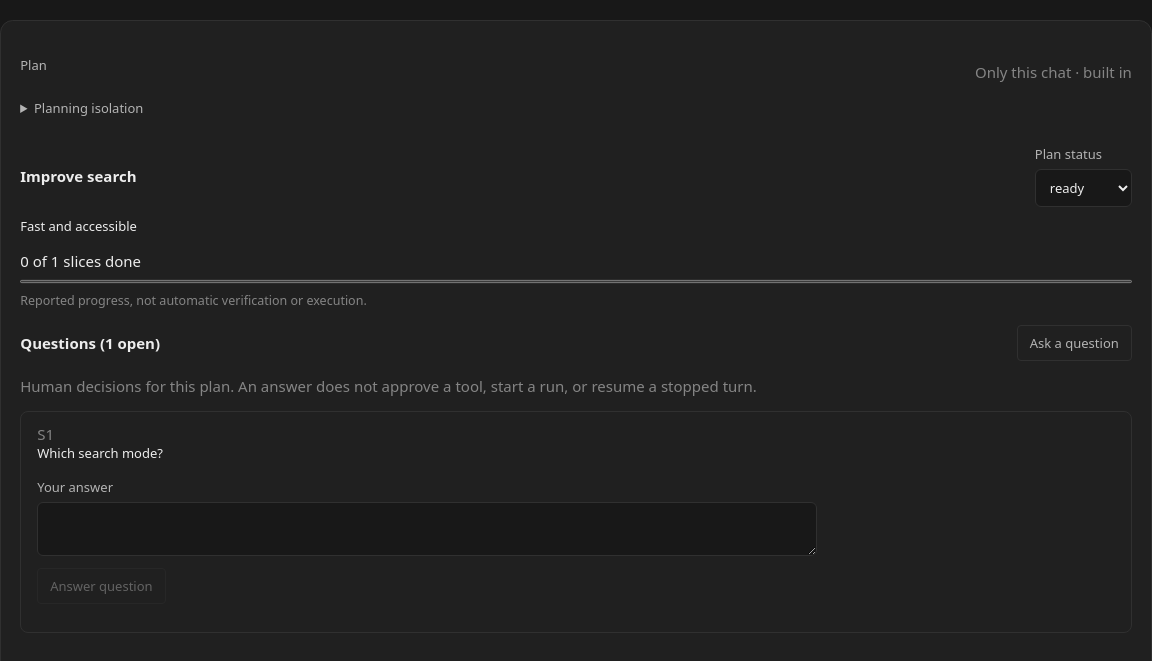
Test: chat-owned planning › answers the displayed chat's question, retaining the draft on conflict
The width and height of the screenshot is (1152, 661).
Type "Use prefix matching" into the text box labelled "Your answer" at (427, 529), box x1=37 y1=502 x2=817 y2=556
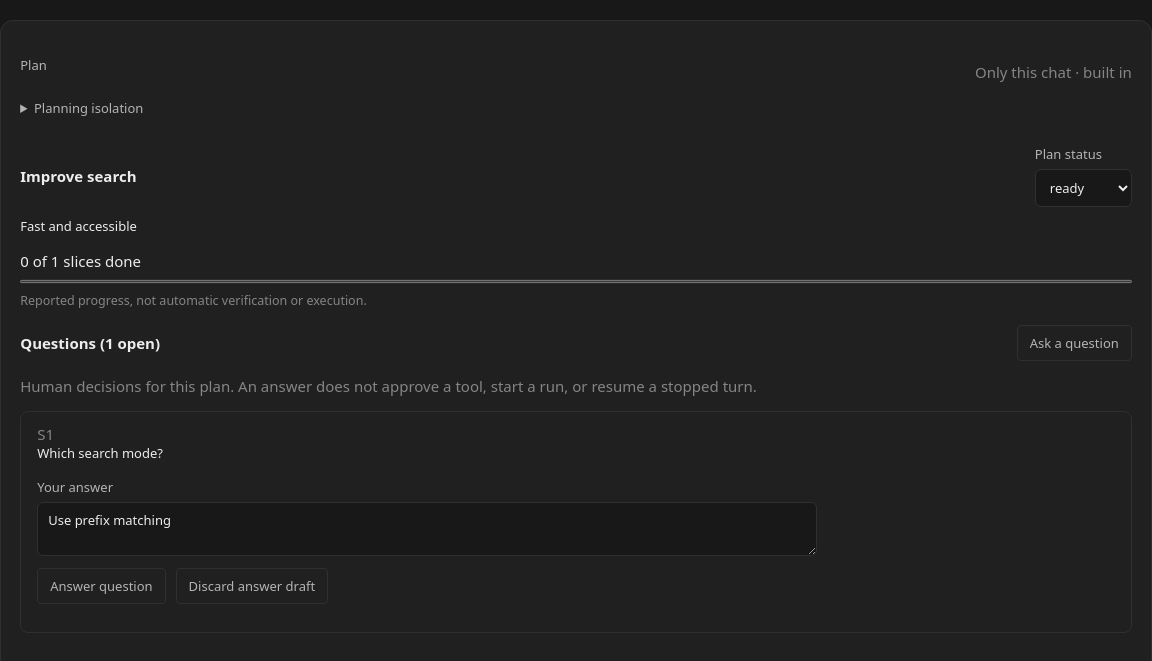
Click the button "Answer question" at (101, 586), box x1=37 y1=568 x2=166 y2=604
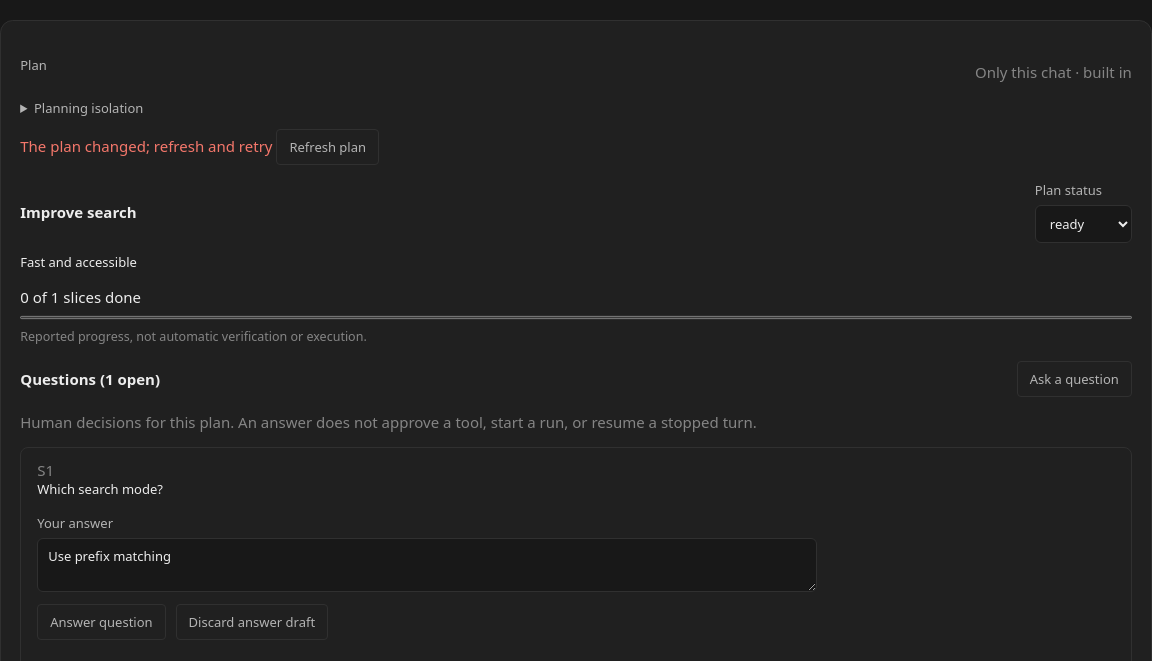
expect the message shows "changed": met, box x1=20 y1=136 x2=272 y2=156
Click the button "Answer question" at (101, 622), box x1=37 y1=604 x2=166 y2=640
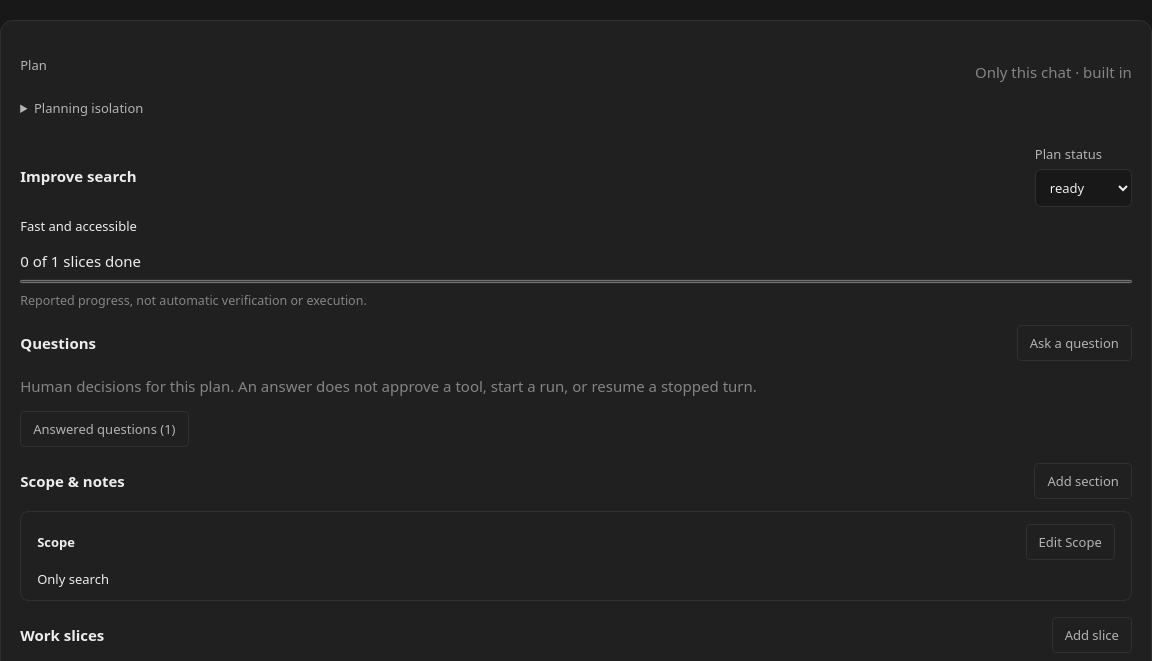
expect the button "Answered questions (1)" is shown: met, box x1=20 y1=411 x2=188 y2=447
expect the label labelled "Your answer" is gone: met
